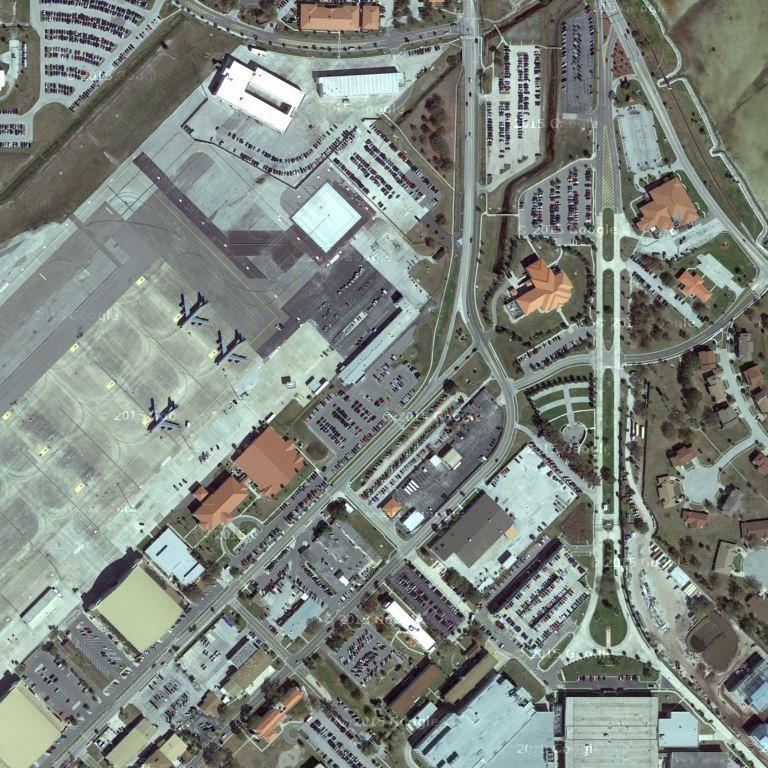KC-135: (208, 325, 250, 368), (143, 393, 184, 435), (175, 290, 212, 330)
